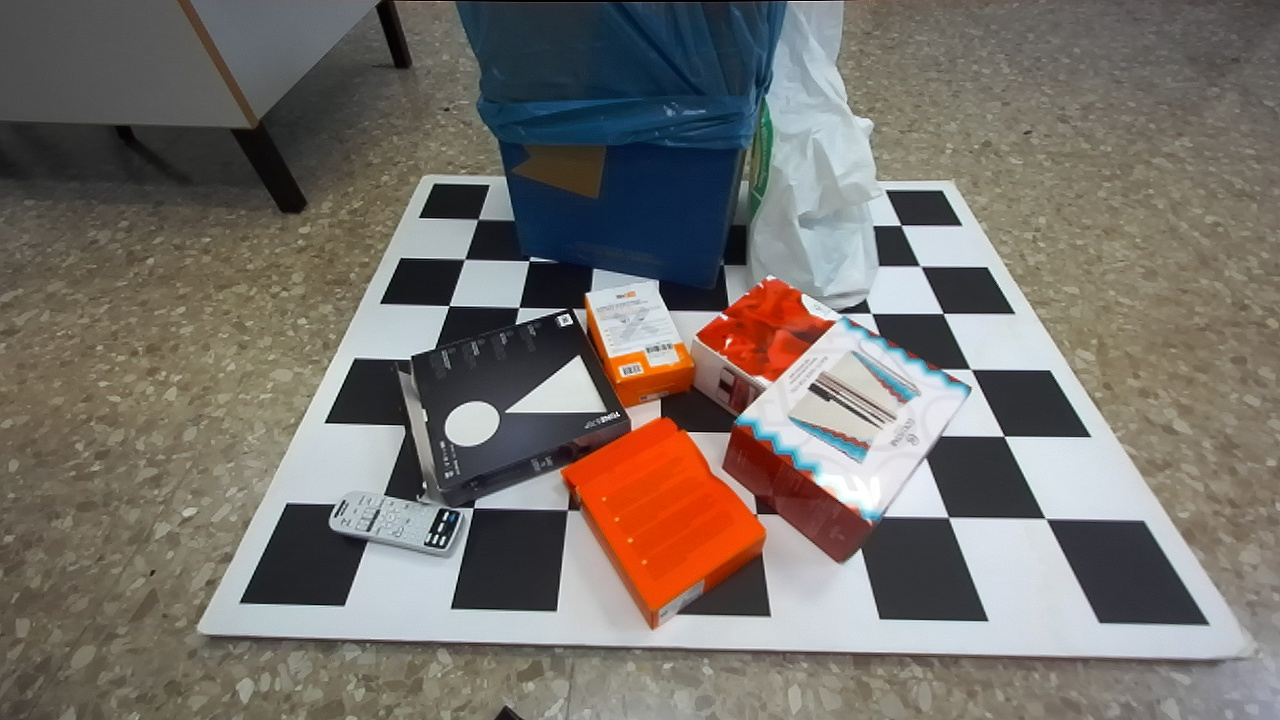caja_busbar: (723, 318, 969, 561)
caja_chasis: (399, 308, 631, 506)
caja_manguera: (561, 418, 765, 627)
caja_pcb: (585, 281, 693, 404)
caja_potencia: (691, 276, 839, 415)
